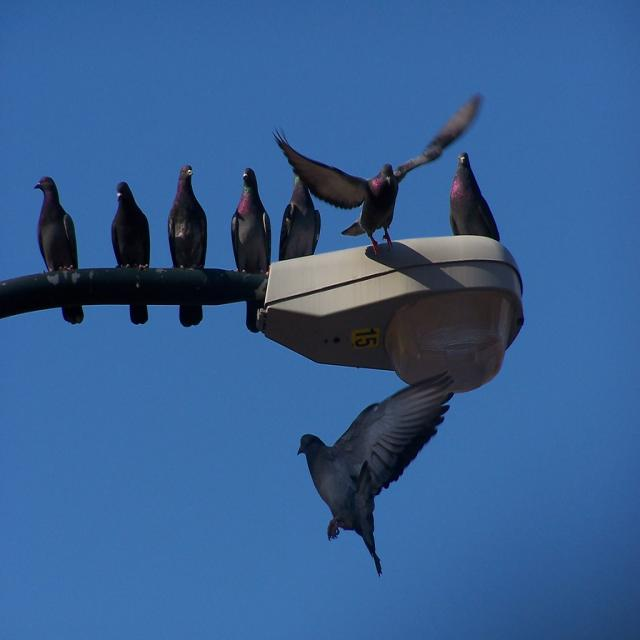bird: (288, 375, 472, 574), (263, 95, 491, 236), (160, 165, 214, 327), (228, 162, 279, 308), (276, 154, 321, 265), (33, 182, 81, 282), (449, 156, 499, 234), (108, 185, 154, 269)
